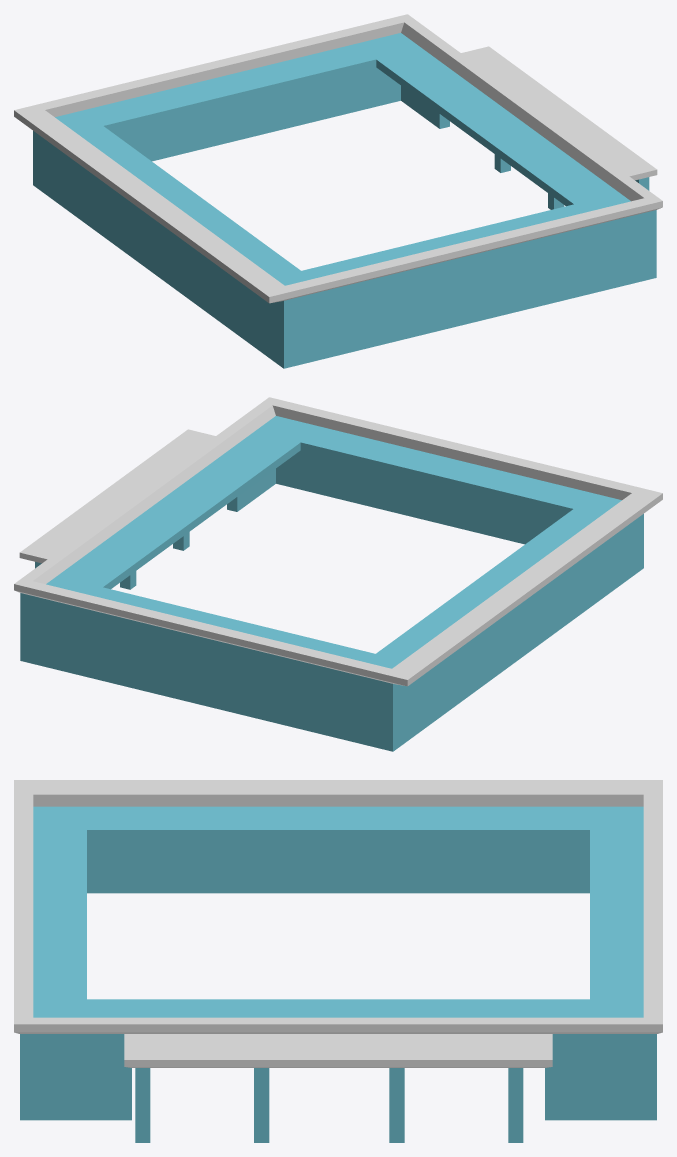
The model's file is palengkewall.fbx.
3 views of the same model, one above another, from view 1: azimuth 30°, elevation 25°; view 2: azimuth 150°, elevation 25°; view 3: azimuth 270°, elevation 25° (orthographic). The views are drawn at different scales.
Parts seen in each view (by area): view 1: palengkewall; view 2: palengkewall; view 3: palengkewall.
Part boxes in pixels (x1,y1,x2,y2): palengkewall: (14, 14, 662, 368); palengkewall: (14, 397, 662, 751); palengkewall: (14, 780, 662, 1142).
Size of the model in its own units: 87.09 by 14.96 by 89.25.
